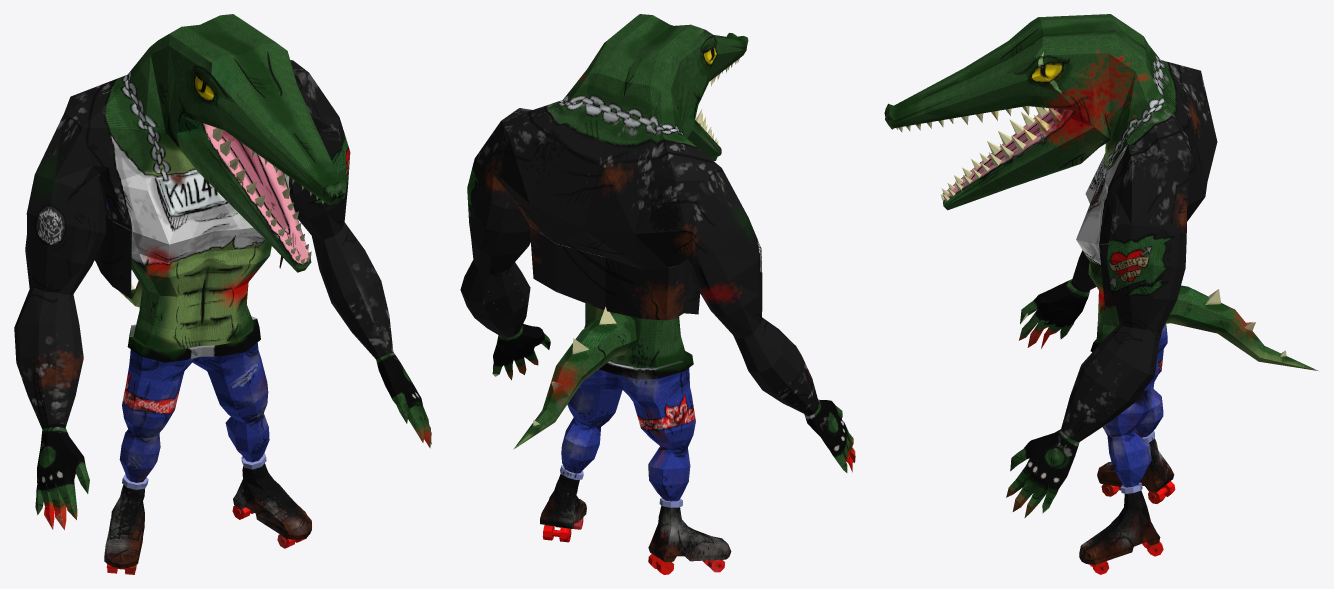
Rendered from cocodrilaBonesSelect_000084.obj.
3 renders of one model, left to right at view 1: azimuth 30°, elevation 25°; view 2: azimuth 150°, elevation 25°; view 3: azimuth 270°, elevation 25°, orthographic. The views are drawn at different scales.
Parts seen in each view (by area): view 1: Crocodile.002_Cylinder.002; view 2: Crocodile.002_Cylinder.002; view 3: Crocodile.002_Cylinder.002.
Boxes of the visible parts, x1,y1,x2,y2 form: Crocodile.002_Cylinder.002: (14, 14, 431, 574); Crocodile.002_Cylinder.002: (460, 14, 855, 574); Crocodile.002_Cylinder.002: (884, 14, 1318, 574).
Size of the model in its own units: 4.99 by 6.71 by 5.22.
